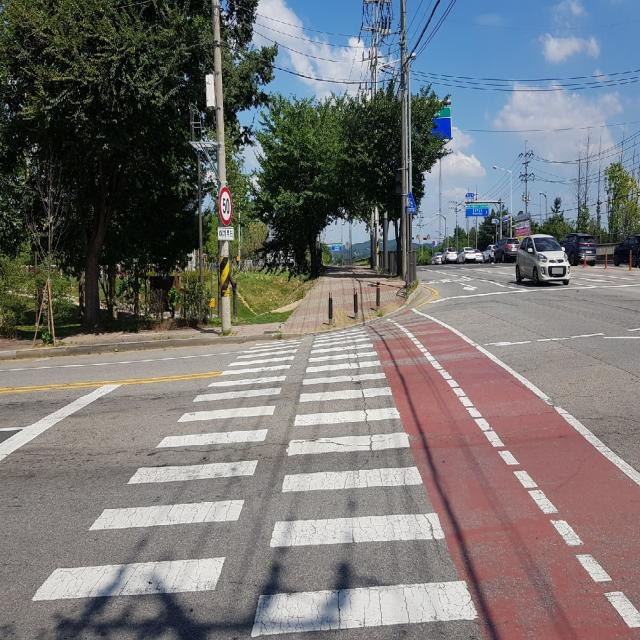횡단보도: (29, 323, 482, 640)
